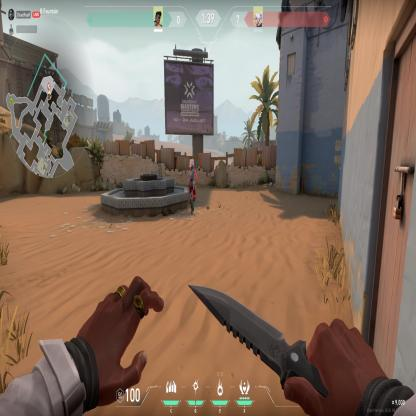enemy: (188, 158, 198, 216)
